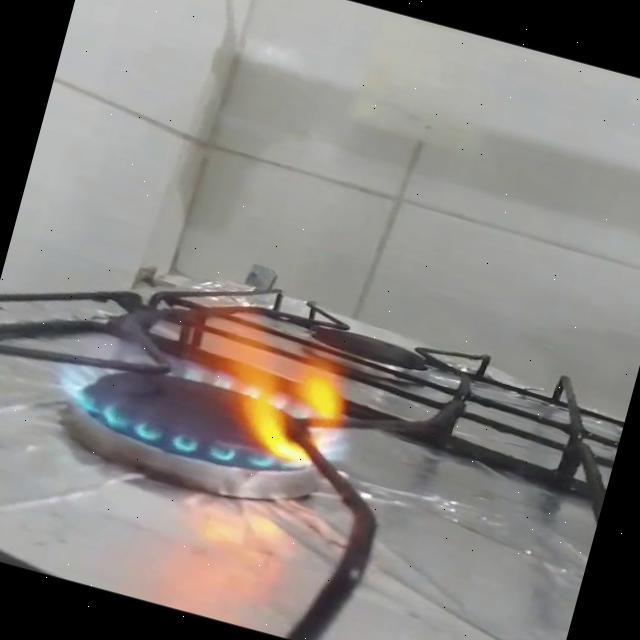fire: (44, 252, 388, 498)
